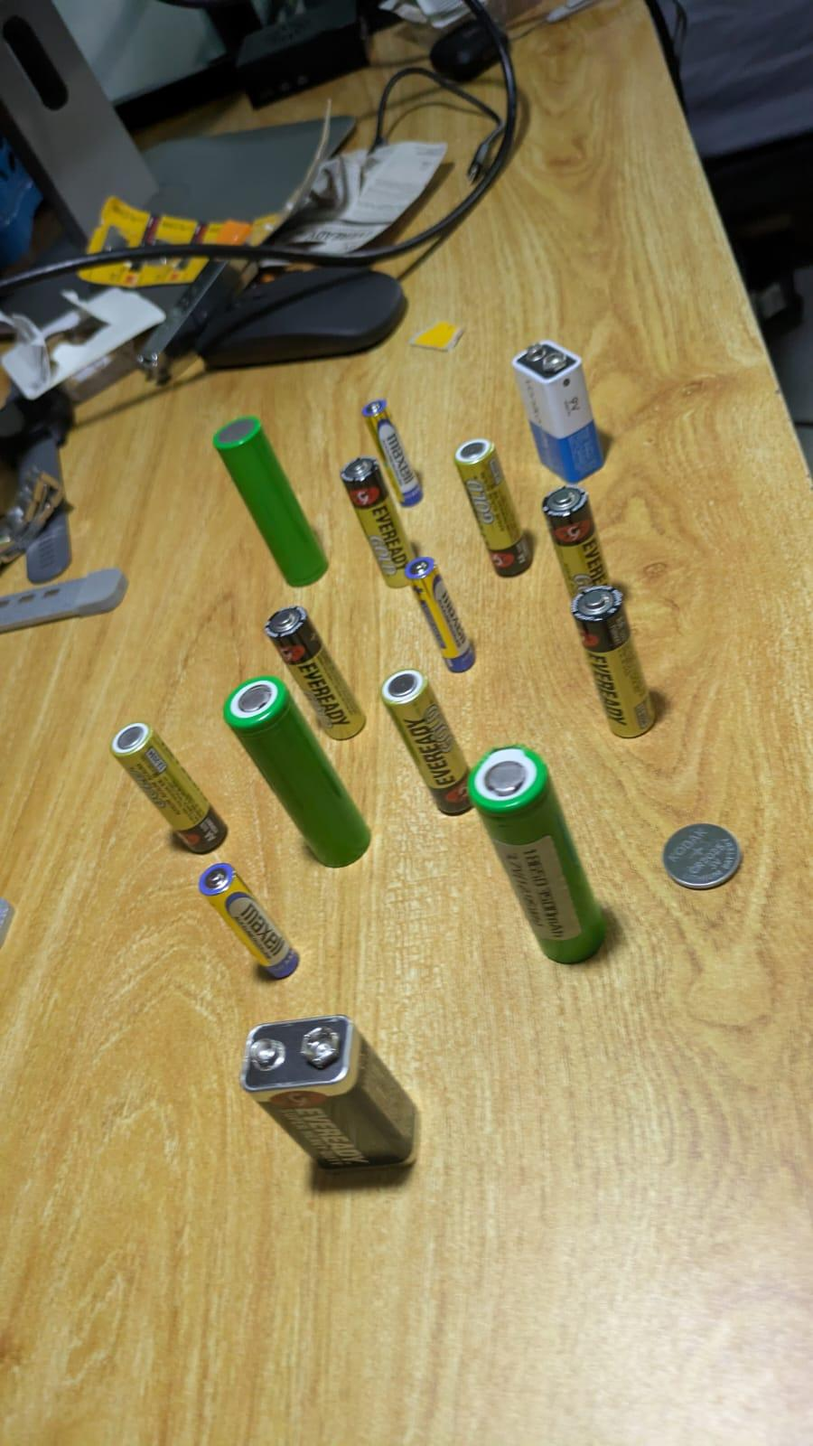9V: (241, 1012, 420, 1172), (511, 342, 603, 486)
AA: (110, 723, 225, 857), (379, 671, 475, 816), (566, 577, 653, 734), (264, 609, 368, 739), (453, 440, 531, 578), (340, 456, 418, 582), (542, 487, 612, 601)
AAA: (198, 863, 299, 982), (402, 555, 477, 679), (361, 398, 423, 507)
COIN: (659, 822, 744, 893)
